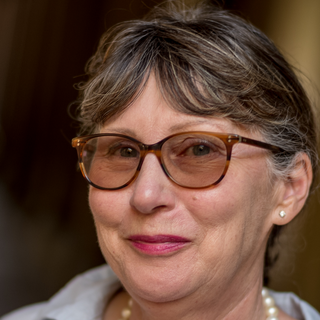eye: (178, 140, 221, 163), (104, 141, 142, 166)
